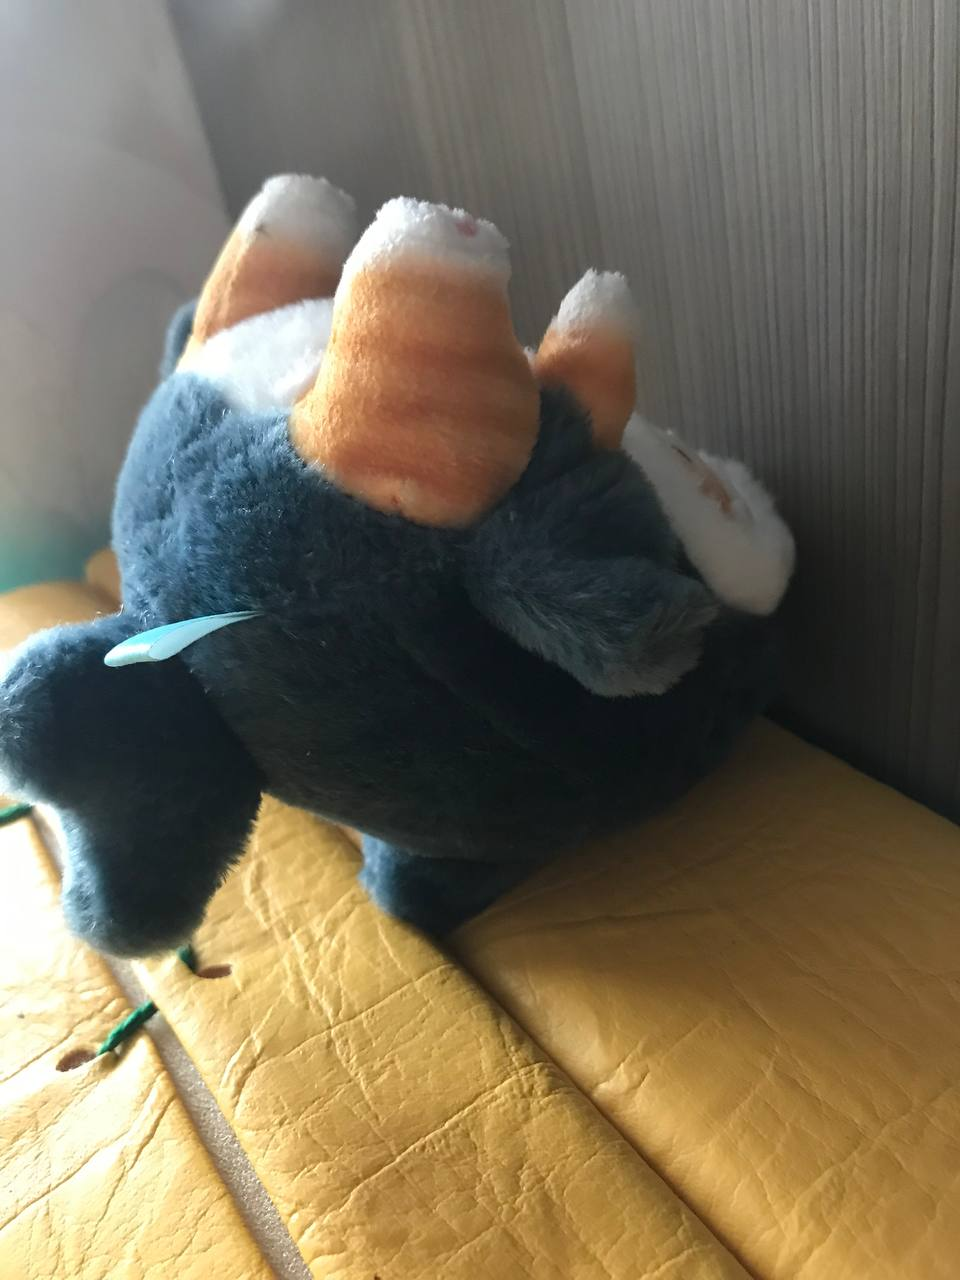cat_shark: (0, 165, 798, 964)
